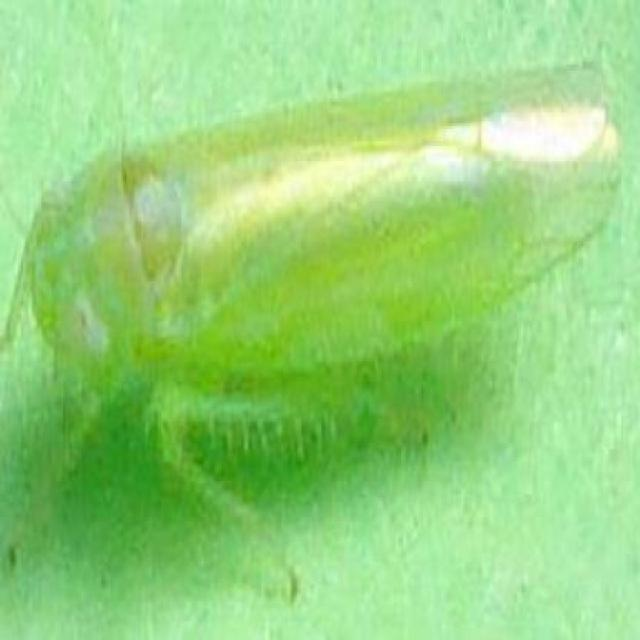green-leafhopper: (34, 80, 611, 392)
